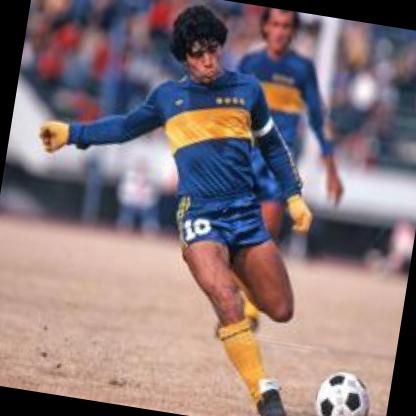ball: (308, 364, 378, 416)
